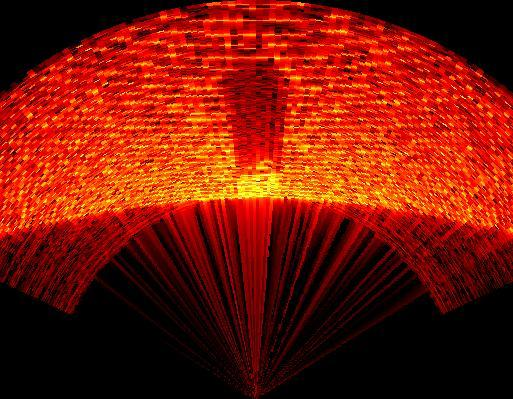box_crate: (217, 59, 296, 199)
